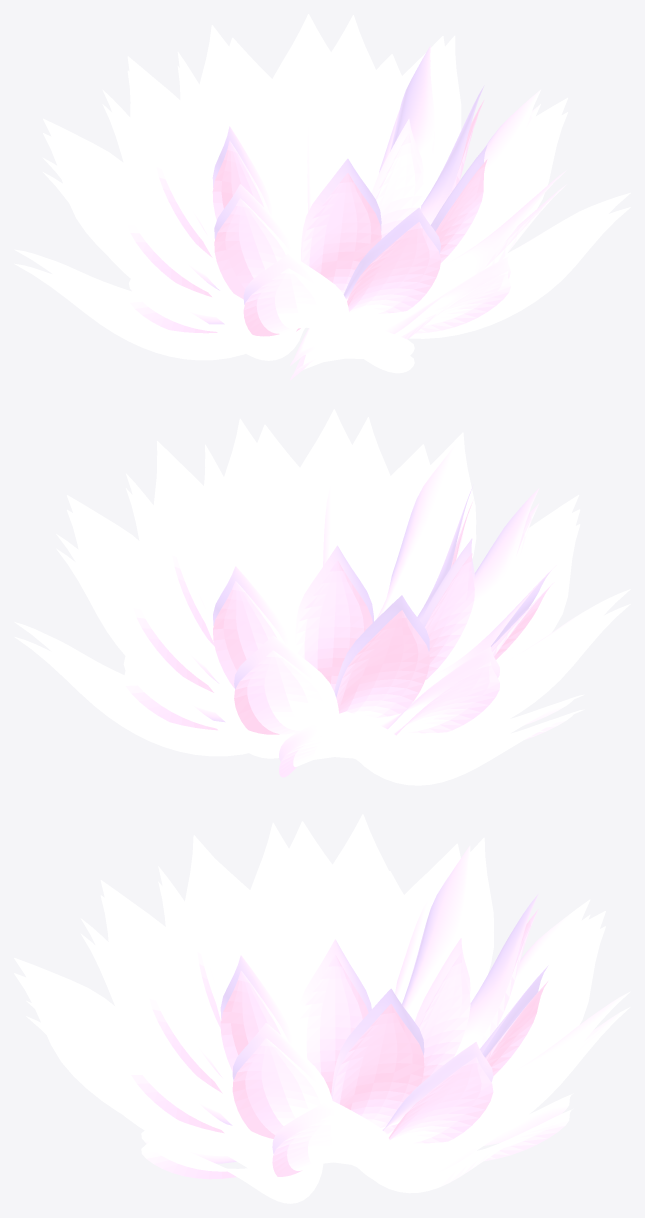
Rendered from waterlily.gltf.
The picture shows the model from 3 angles, top to bottom: view 1: azimuth 30°, elevation 25°; view 2: azimuth 150°, elevation 25°; view 3: azimuth 270°, elevation 25°; orthographic projection. The views are drawn at different scales.
Visible parts, largest first — view 1: Petal (×2); view 2: Petal (×2); view 3: Petal (×2).
Boxes of the visible parts, x1,y1,x2,y2 form: Petal (×2): (14,14,630,380); Petal (×2): (14,409,630,785); Petal (×2): (14,814,630,1203).
Size of the model in its own units: 2.51 by 1.15 by 2.37.
